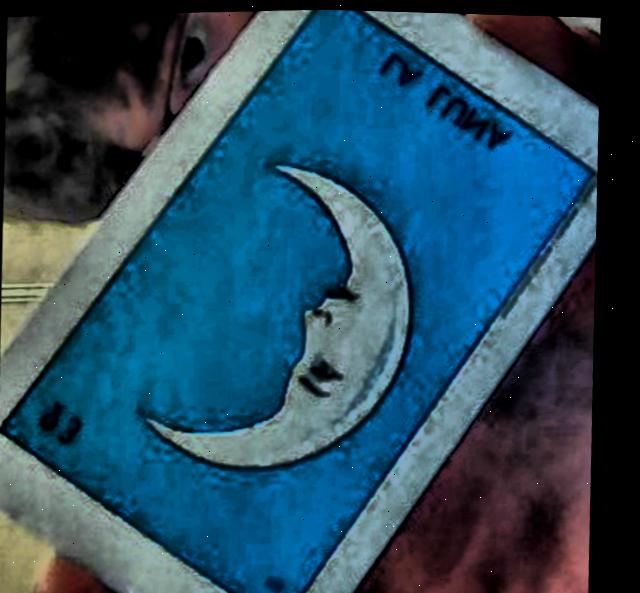La Luna: (7, 7, 596, 593)
